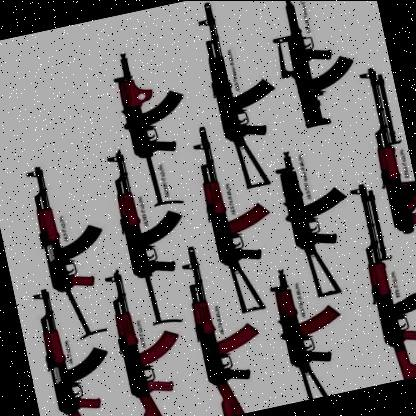rifle: (188, 0, 297, 194), (18, 152, 124, 345), (183, 116, 281, 317), (105, 140, 205, 327), (176, 243, 273, 416), (111, 36, 207, 209), (340, 171, 416, 384), (272, 142, 367, 302), (23, 282, 132, 416), (106, 270, 204, 416), (261, 0, 367, 134), (260, 264, 349, 403), (359, 66, 416, 239)
